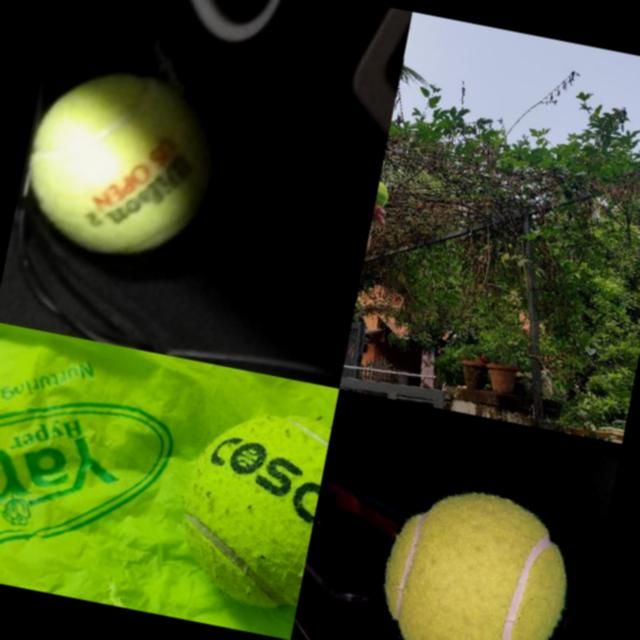tennis-ball: (14, 55, 228, 272), (163, 396, 332, 616), (367, 478, 582, 640), (373, 181, 392, 216)
